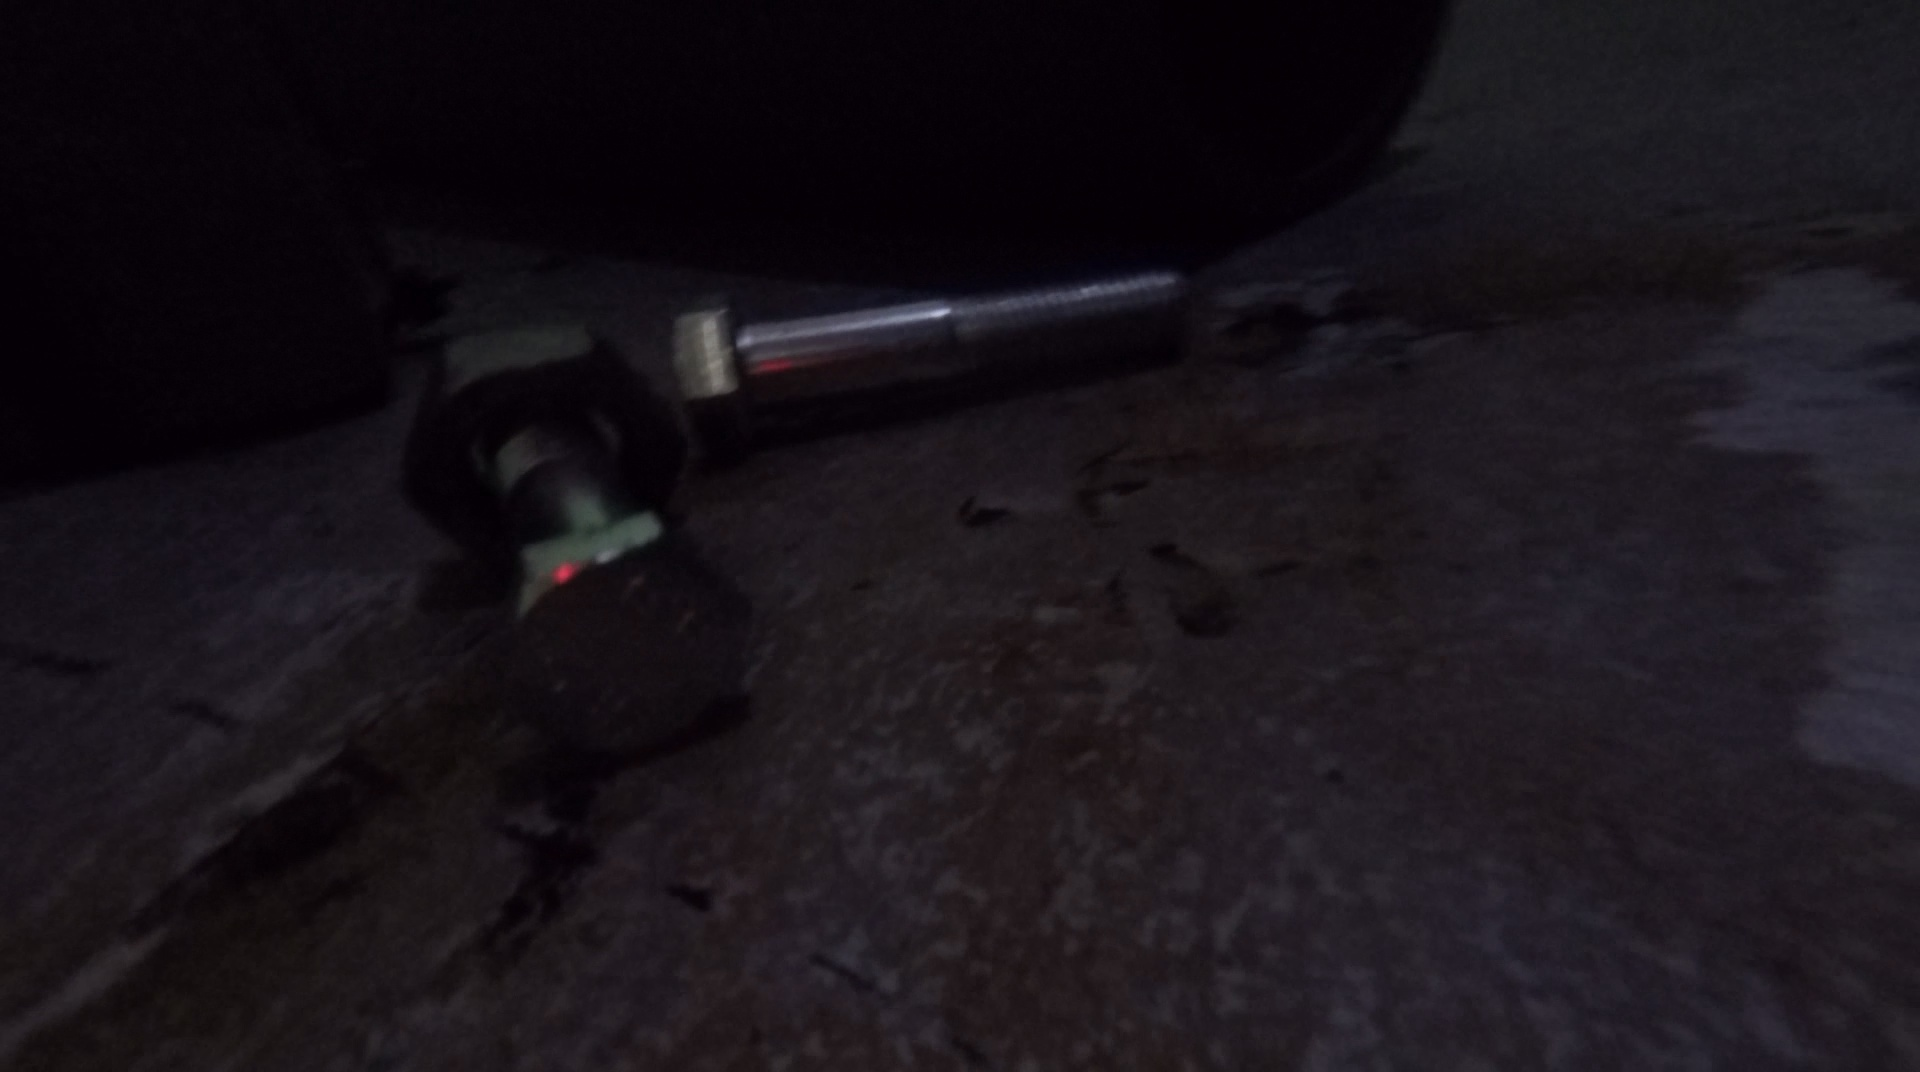bolt: (673, 268, 1189, 465), (491, 389, 752, 756), (396, 323, 680, 547)
pipe: (404, 1, 1443, 270)
